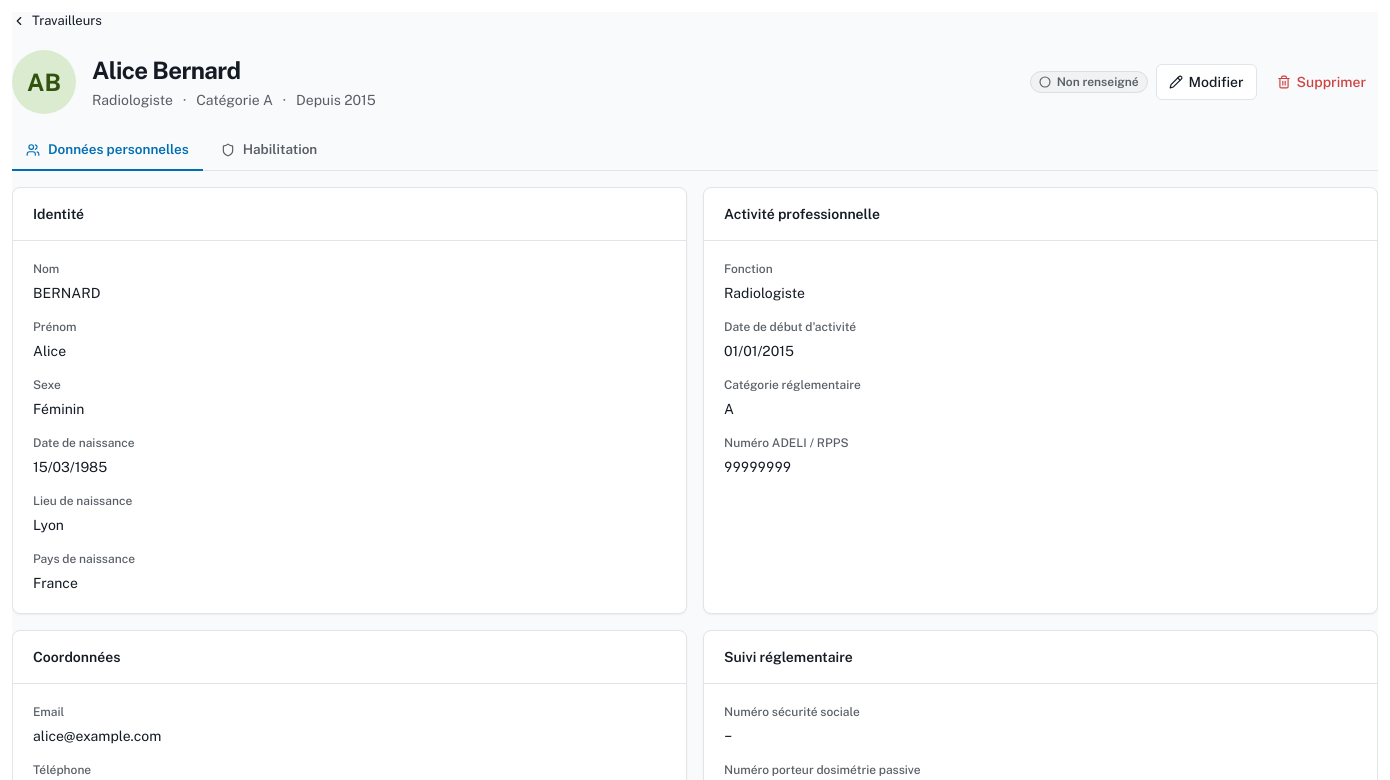
Test: HabilitationTab — statuts des badges par item › Scénario 4 : toutes les dates null → "Non renseigné" pour chaque item › les 5 items affichent exactement 5 badges "Non renseigné" (+ 1 badge récapitulatif dans l'en-tête)
Click the button "Habilitation" at (269,150), box [207, 130, 331, 171]
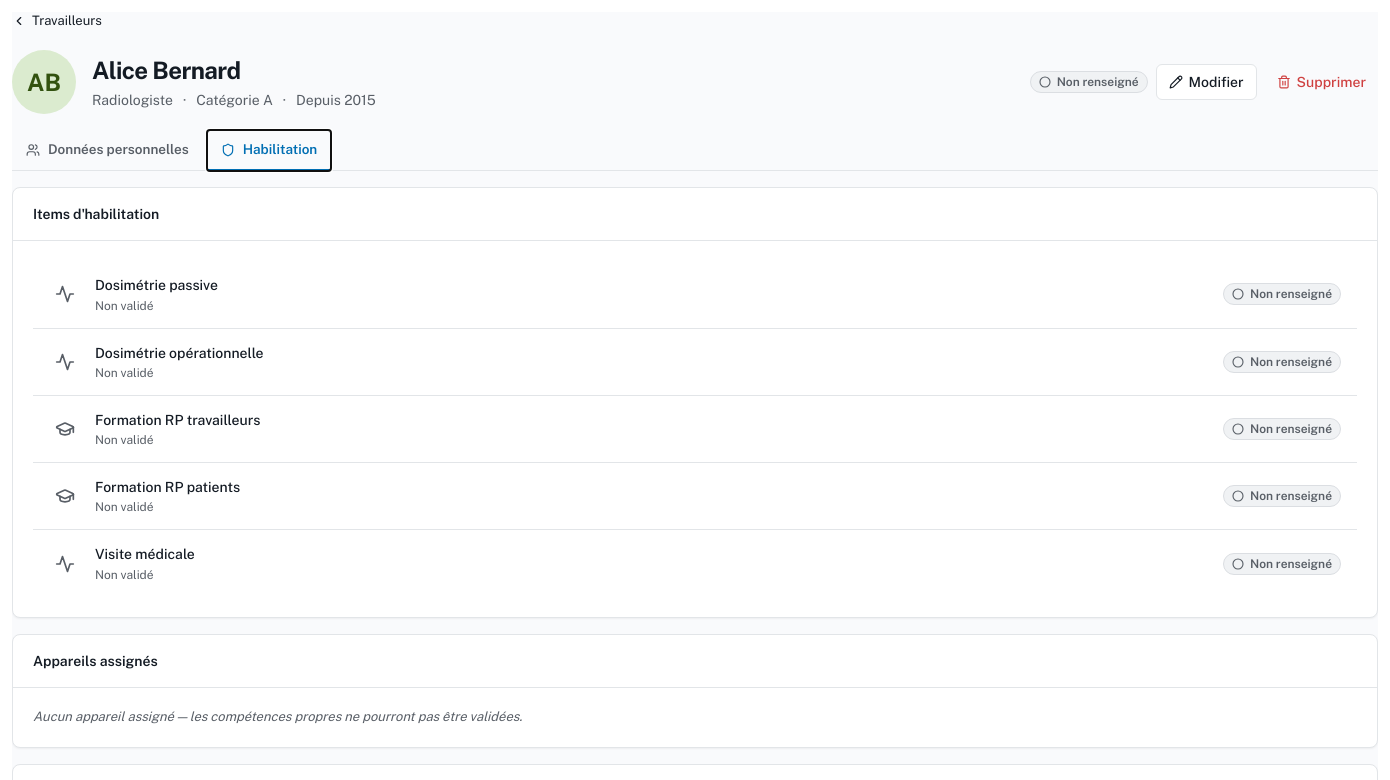
Result: the text "Items d'habilitation" is shown at [33, 204, 159, 224]
Result: the text "Non renseigné" is shown 6 times at [1030, 71, 1148, 93]; [1223, 283, 1341, 305]; [1223, 351, 1341, 373]; [1223, 418, 1341, 440]; [1223, 485, 1341, 507]; [1223, 553, 1341, 575]
